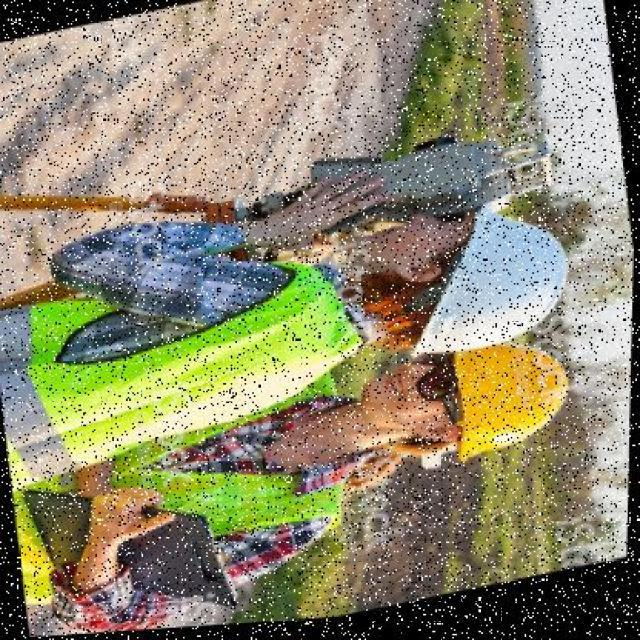helmet: (382, 188, 585, 378), (428, 333, 588, 478)
vest: (0, 231, 357, 499)
